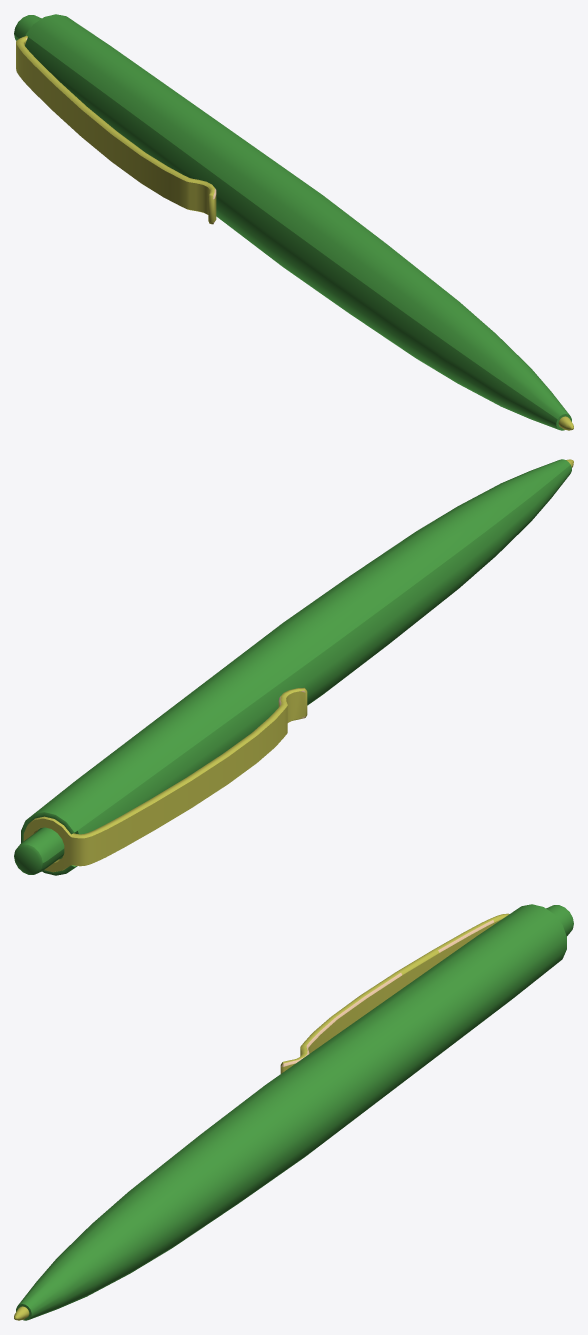
Rendered from 만년필연두.fbx.
The picture shows the model from 3 angles, top to bottom: view 1: azimuth 30°, elevation 25°; view 2: azimuth 150°, elevation 25°; view 3: azimuth 330°, elevation 25°; orthographic projection.
Parts seen in each view (by area): view 1: pen_ with_button; view 2: pen_ with_button; view 3: pen_ with_button.
Boxes of the visible parts, left/top/right/bottom form: pen_ with_button: left=14, top=14, right=573, bottom=430; pen_ with_button: left=14, top=459, right=573, bottom=875; pen_ with_button: left=14, top=904, right=573, bottom=1320.
Bounding box in the file's own units: 158 × 118 × 1591.
